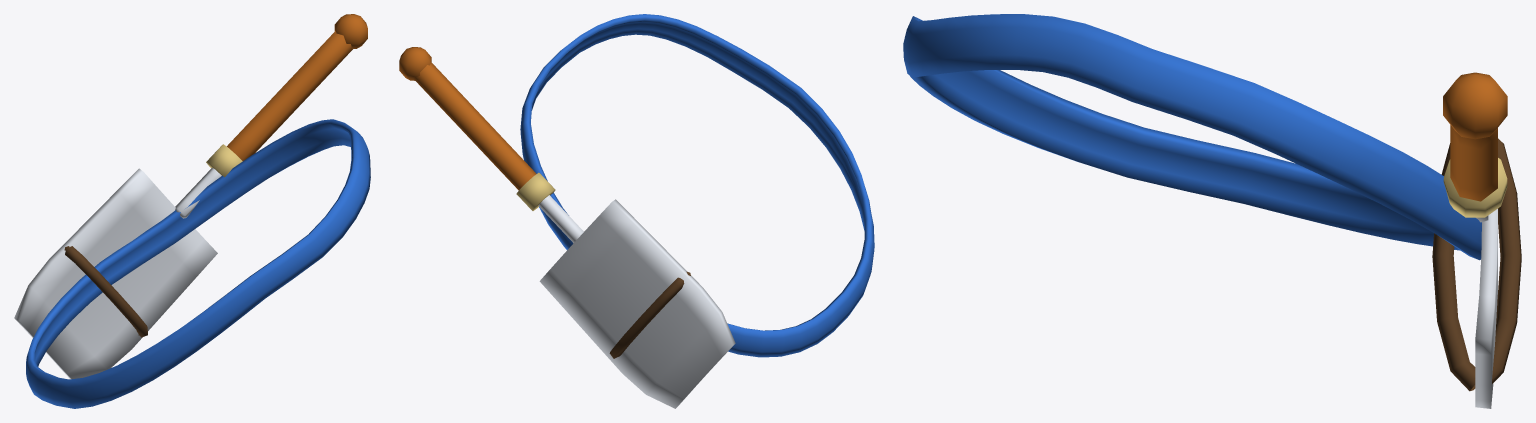
File: back_sword.glb
The picture shows the model from 3 angles, left to right: view 1: azimuth 30°, elevation 25°; view 2: azimuth 150°, elevation 25°; view 3: azimuth 270°, elevation 25°; orthographic projection. The views are drawn at different scales.
Parts seen in each view (by area): view 1: BackSword; view 2: BackSword; view 3: BackSword.
Part boxes in pixels (<box>): BackSword: <box>14,14,370,408</box>; BackSword: <box>399,14,874,408</box>; BackSword: <box>903,14,1521,408</box>.
Bounding box in the file's own units: 0.7434 × 0.5538 × 0.545.
